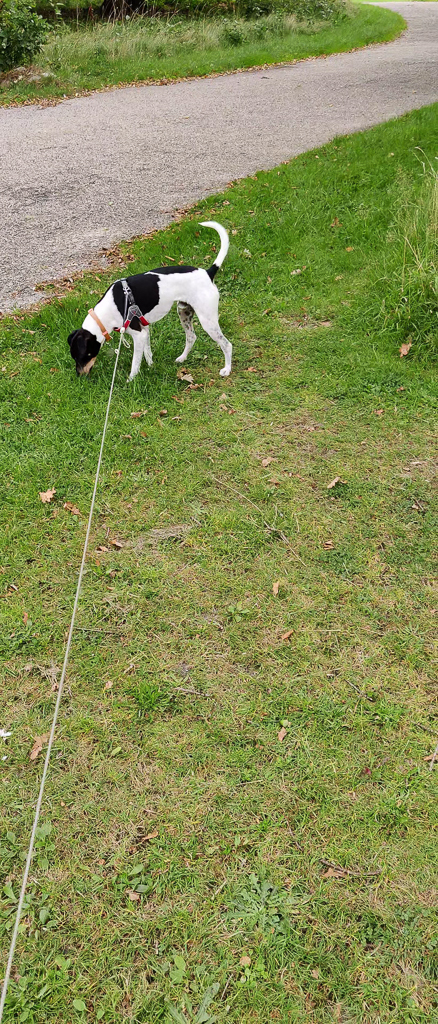Dog: (60, 211, 240, 390)
